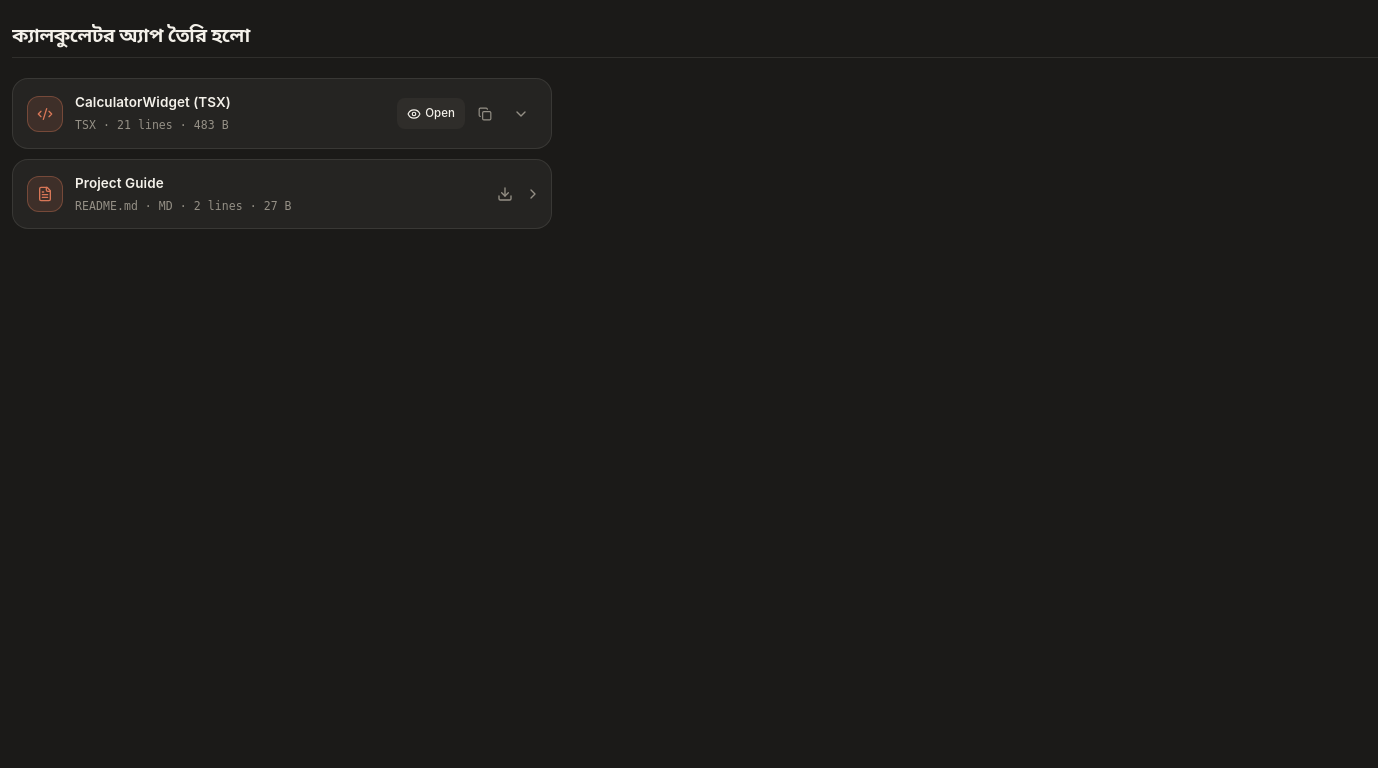
Test case: Claude Redesign: Prompt Collapsing, Code Artifact Boxes & Lovable Voice Waveform › collapses large code blocks by default to prevent chat bloat and lets user expand or open in viewer
Expected: the element with test id "chat-code-block" shows "CalculatorWidget (TSX)", [27,91,387,136]
Expected: the element with test id "claude-file-artifact-card" shows "Project Guide", [13,160,481,228]
Click the button with test id "toggle-code-collapse-btn".
click(521, 114)  # box [505,98,537,130]
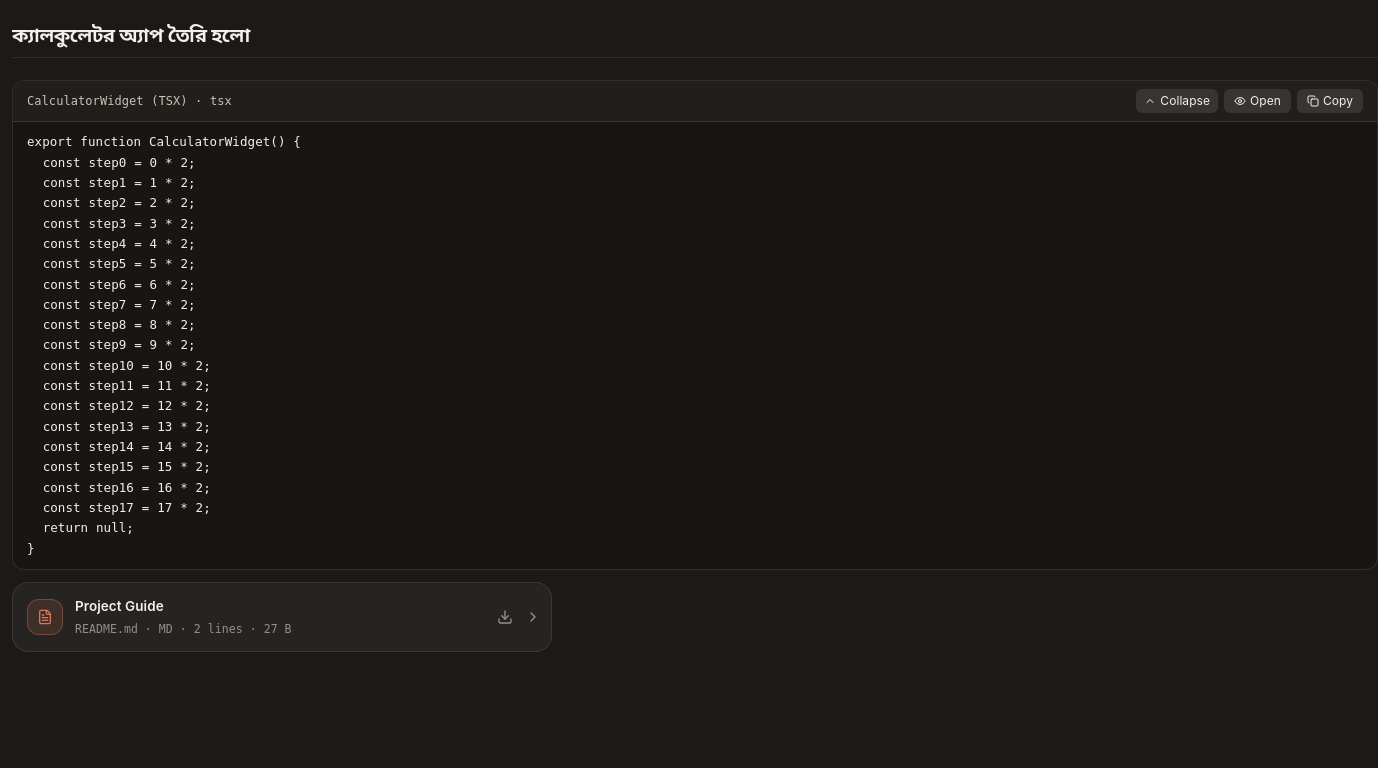
Now the element with test id "chat-code-source-pre" is shown, box [27,134,301,556]
